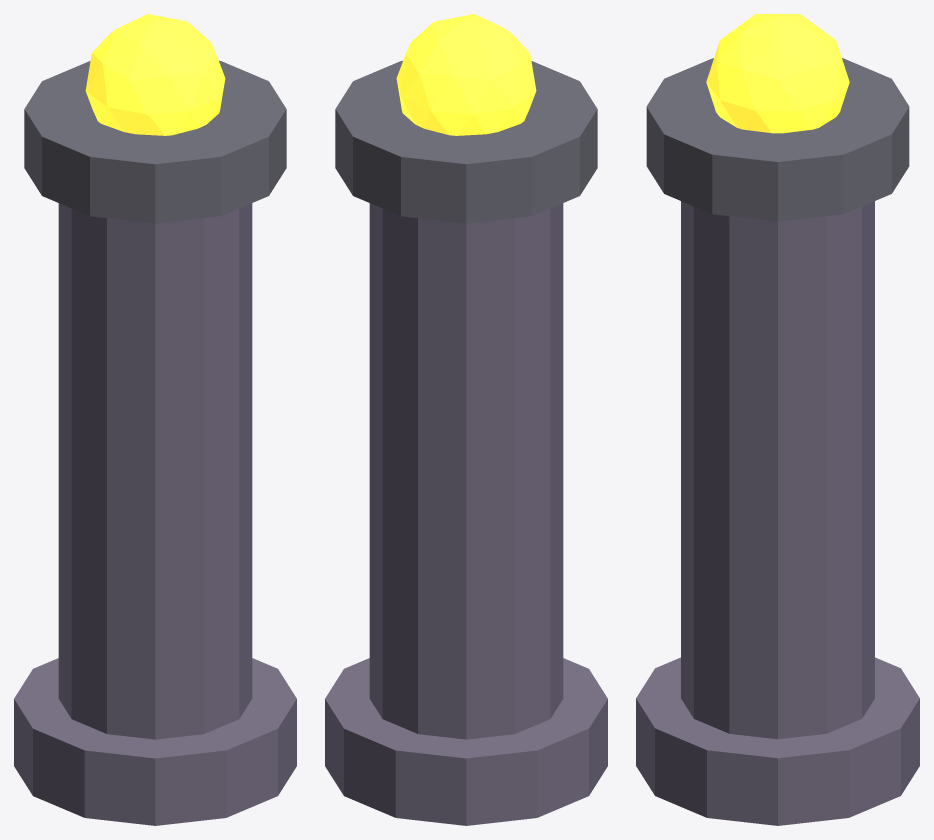
The model's file is gothic_pillar_brazier.glb.
The picture shows the model from 3 angles, left to right: view 1: azimuth 30°, elevation 25°; view 2: azimuth 150°, elevation 25°; view 3: azimuth 270°, elevation 25°; orthographic projection.
Parts seen in each view (by area): view 1: Cylinder.001, Cylinder, Cylinder.002, Icosphere; view 2: Cylinder.001, Cylinder, Cylinder.002, Icosphere; view 3: Cylinder.001, Cylinder, Cylinder.002, Icosphere.
Boxes of the visible parts, <box> form: Cylinder.001: <box>58,203,252,739</box>; Cylinder: <box>14,658,296,825</box>; Cylinder.002: <box>24,60,286,223</box>; Icosphere: <box>85,14,225,135</box>; Cylinder.001: <box>369,203,563,739</box>; Cylinder: <box>325,658,607,825</box>; Cylinder.002: <box>335,60,597,223</box>; Icosphere: <box>396,14,536,135</box>; Cylinder.001: <box>681,201,874,739</box>; Cylinder: <box>636,657,919,825</box>; Cylinder.002: <box>646,58,909,221</box>; Icosphere: <box>706,14,849,133</box>.
Size of the model in its own units: 1.9 by 5.53 by 1.9.
